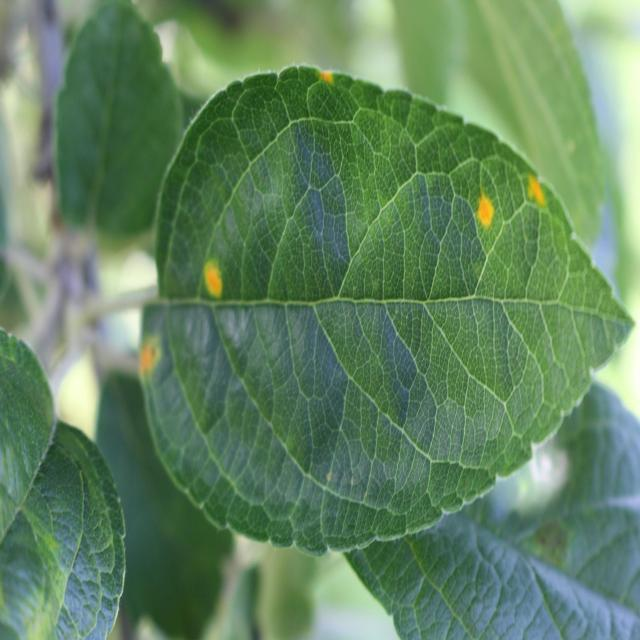Rust: (187, 247, 235, 324), (463, 172, 508, 251), (517, 151, 559, 225), (125, 331, 171, 387), (303, 41, 342, 102)
